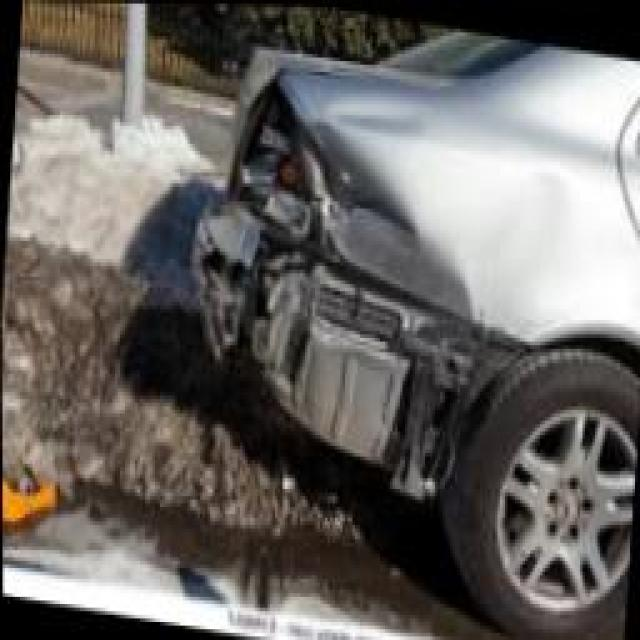Bumper: (188, 184, 529, 500)
Fender: (279, 60, 527, 341)
Light: (224, 69, 315, 241)
